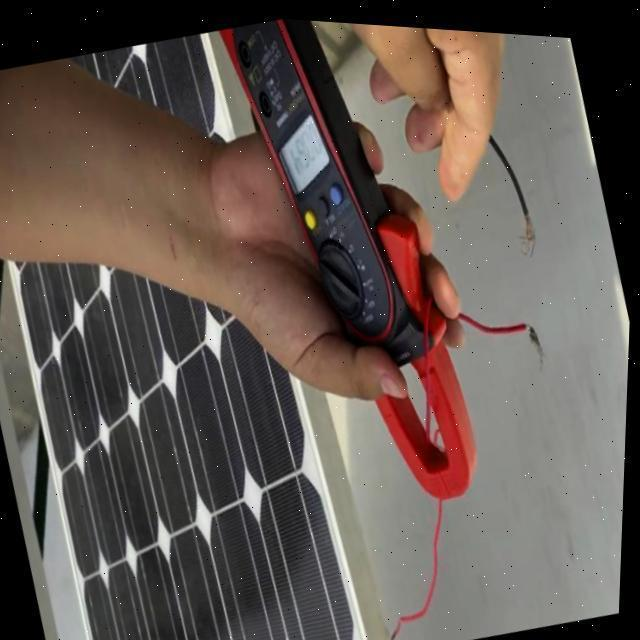Normal Solar Panel: (2, 205, 385, 640), (66, 24, 222, 155)
